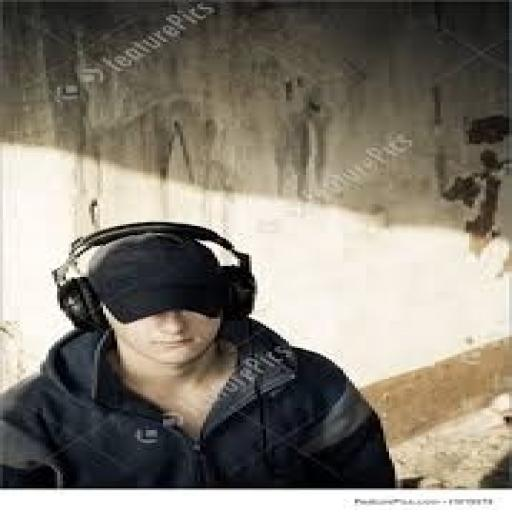listening_to_music: (0, 220, 400, 488)
